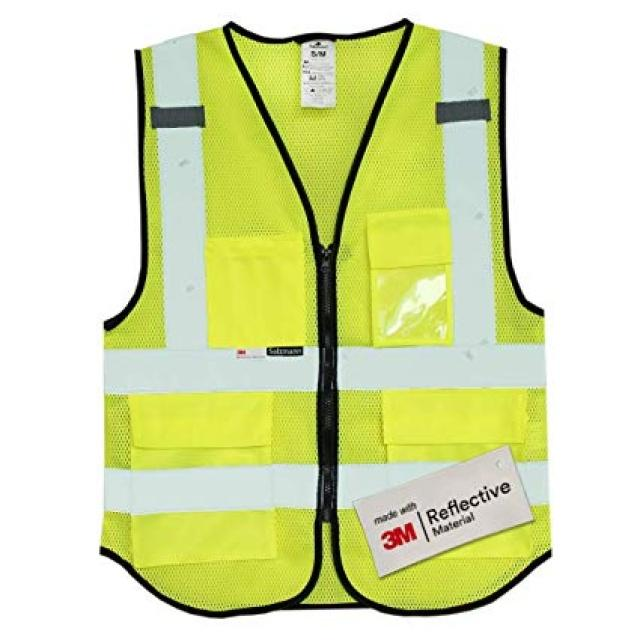vest: (95, 31, 553, 640)
